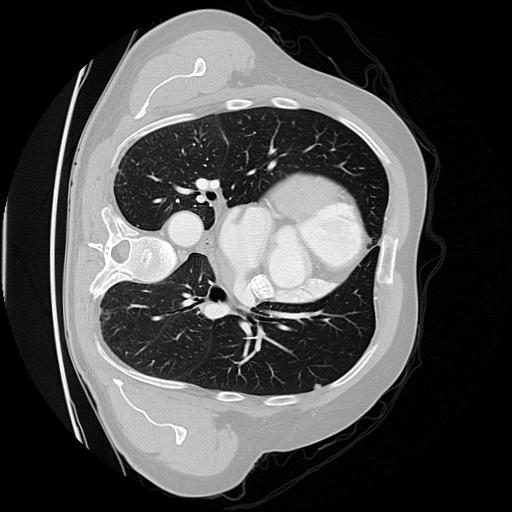nodule: (313, 383, 323, 393)
